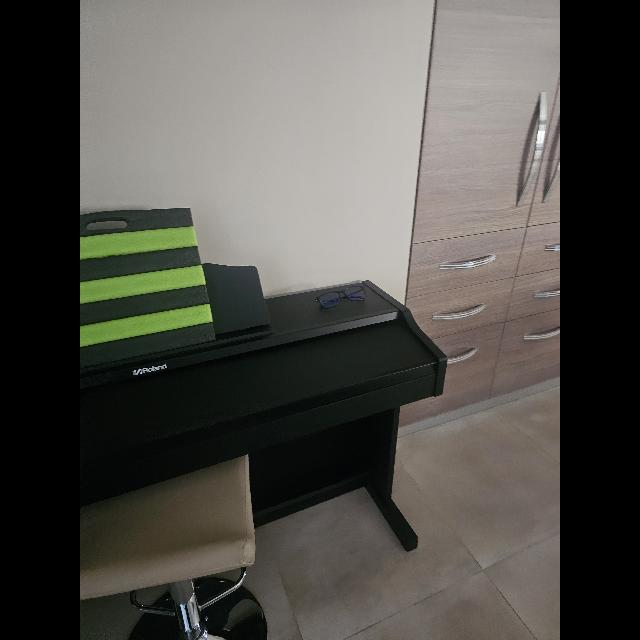glasses: (315, 286, 365, 308)
